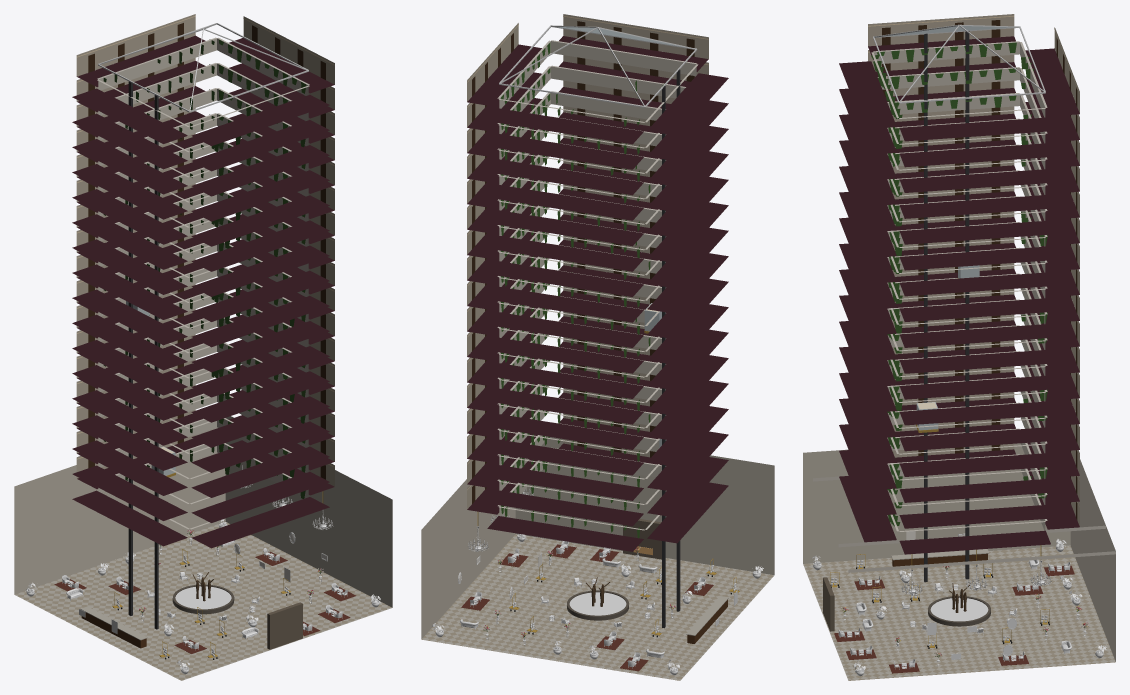
Rendered from jwMarriott_int.glb.
The picture shows the model from 3 angles, left to right: view 1: azimuth 30°, elevation 25°; view 2: azimuth 150°, elevation 25°; view 3: azimuth 270°, elevation 25°; orthographic projection. The views are drawn at different scales.
Parts seen in each view (by area): view 1: I_x_carpet_red, I_x_plaster, I_x_marble_white, I_leaf, I_x_veneer, I_metal, I_x_marble_black, I_water, I_lampI; view 2: I_x_carpet_red, I_x_plaster, I_x_marble_white, I_leaf, I_x_veneer, I_metal, I_x_marble_black, I_water, I_glassI, I_lampI; view 3: I_x_carpet_red, I_x_plaster, I_x_marble_white, I_leaf, I_x_veneer, I_metal, I_x_marble_black, I_water, I_glassI, I_p_Chandelier_03__0, I_p_potted_plant_02__1, I_p_ArmChair_01__0 (+1 smaller).
Boxes of the visible parts, <box> form: I_x_carpet_red: <box>54,35,356,653</box>; I_x_plaster: <box>14,14,392,607</box>; I_x_marble_white: <box>14,521,392,680</box>; I_leaf: <box>101,39,306,498</box>; I_x_veneer: <box>81,23,325,648</box>; I_metal: <box>98,23,308,629</box>; I_x_marble_black: <box>172,584,302,649</box>; I_water: <box>175,586,231,609</box>; I_lampI: <box>77,16,334,467</box>; I_x_carpet_red: <box>461,36,728,671</box>; I_x_plaster: <box>421,14,774,639</box>; I_x_marble_white: <box>421,534,773,680</box>; I_leaf: <box>501,42,664,538</box>; I_x_veneer: <box>472,21,727,643</box>; I_metal: <box>499,25,697,628</box>; I_x_marble_black: <box>567,519,661,620</box>; I_water: <box>569,592,626,615</box>; I_glassI: <box>558,27,683,447</box>; I_lampI: <box>467,15,708,555</box>; I_x_carpet_red: <box>834,36,1079,673</box>; I_x_plaster: <box>803,14,1115,661</box>; I_x_marble_white: <box>803,545,1115,680</box>; I_leaf: <box>871,42,1047,526</box>; I_x_veneer: <box>882,20,1077,566</box>; I_metal: <box>873,24,1045,612</box>; I_x_marble_black: <box>823,577,990,631</box>; I_water: <box>930,597,988,621</box>; I_glassI: <box>886,26,1012,430</box>; I_p_Chandelier_03__0: <box>902,560,1051,594</box>; I_p_potted_plant_02__1: <box>812,539,1106,672</box>; I_p_ArmChair_01__0: <box>838,562,1070,668</box>.
Bounding box in the file's own units: 36.59 × 74.06 × 35.7.
